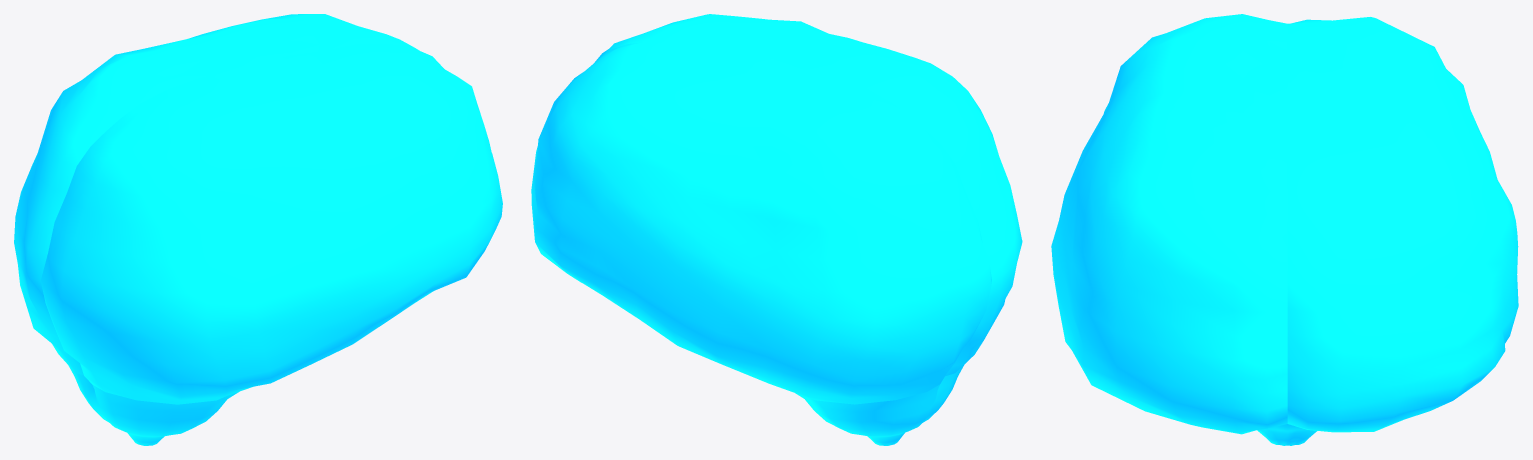
The model's file is PSYCHO BRAIN.glb.
The picture shows the model from 3 angles, left to right: view 1: azimuth 30°, elevation 25°; view 2: azimuth 150°, elevation 25°; view 3: azimuth 270°, elevation 25°; orthographic projection. The views are drawn at different scales.
Visible parts, largest first — view 1: PSHYCO BRAIN; view 2: PSHYCO BRAIN; view 3: PSHYCO BRAIN.
Part boxes in pixels (x1,y1,x2,y2): PSHYCO BRAIN: (14, 14, 502, 445); PSHYCO BRAIN: (531, 14, 1022, 445); PSHYCO BRAIN: (1051, 14, 1518, 445).
Size of the model in its own units: 2.86 by 2.23 by 2.16.
